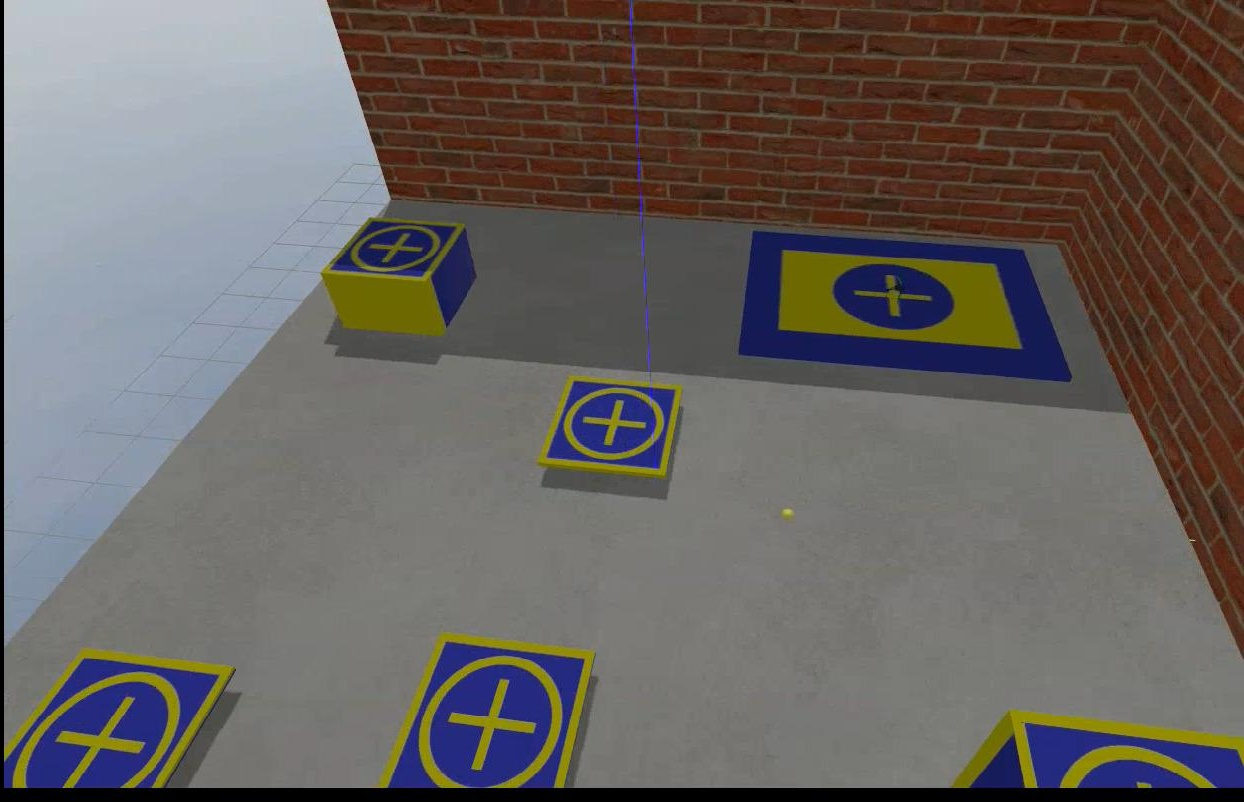large_base: (732, 234, 1070, 382)
small_base: (7, 648, 234, 801), (379, 630, 590, 793), (991, 711, 1242, 792), (533, 378, 681, 478), (320, 220, 464, 288)
